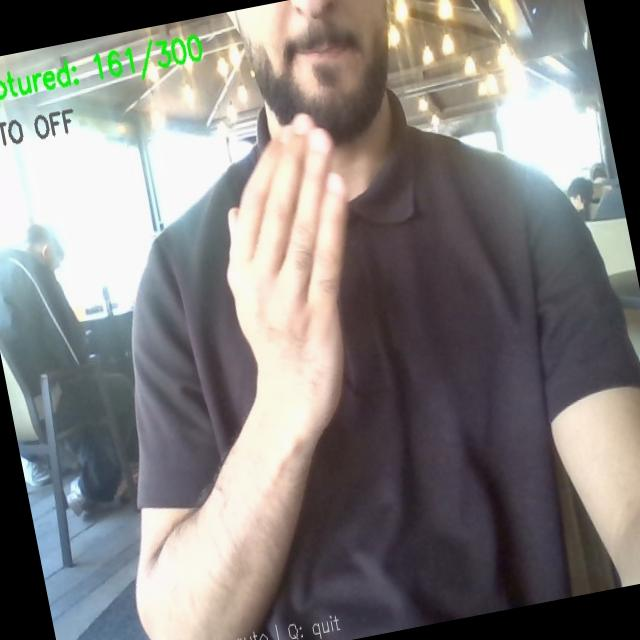Hand: (227, 115, 347, 433)
